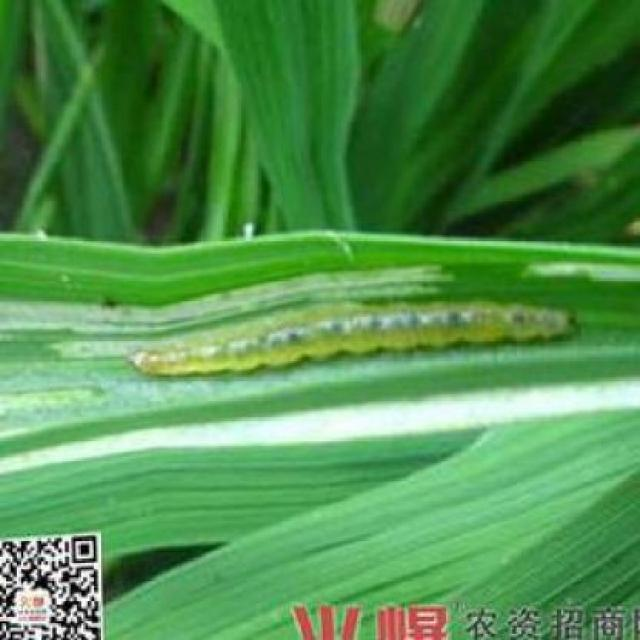leaf-folder: (109, 288, 582, 390)
